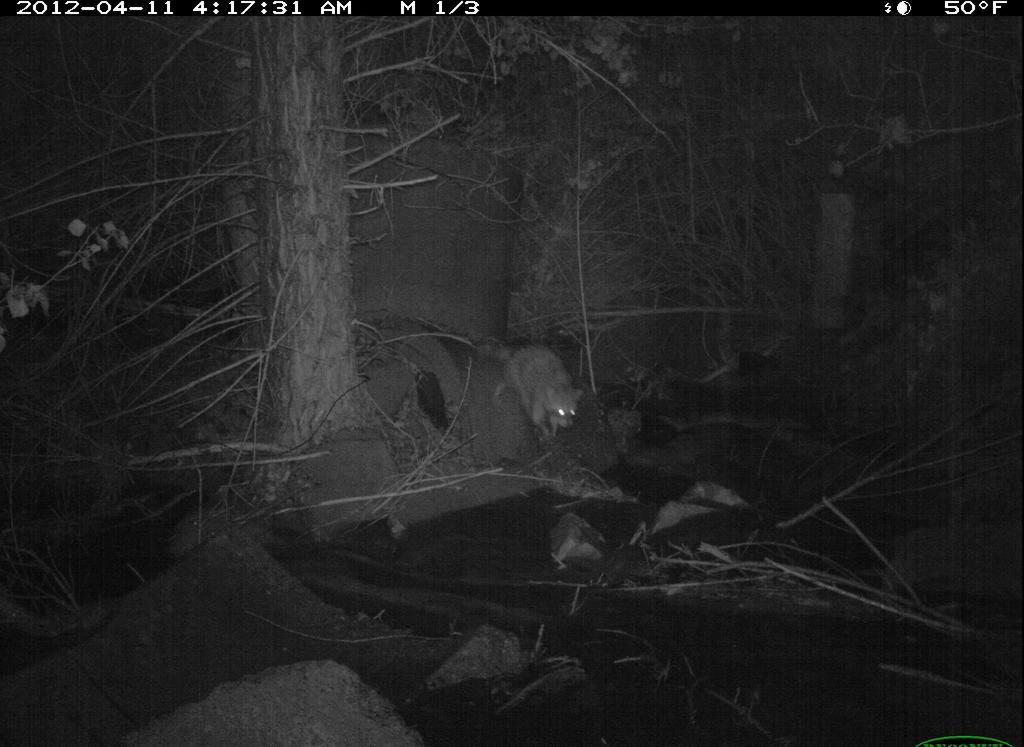raccoon: (475, 335, 589, 446)
